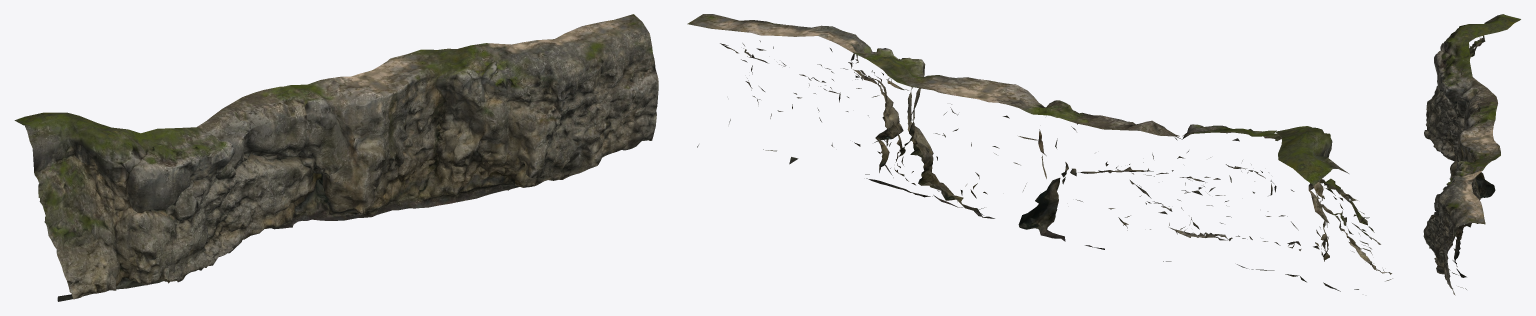
File: hill_ledge.glb
The picture shows the model from 3 angles, left to right: view 1: azimuth 30°, elevation 25°; view 2: azimuth 150°, elevation 25°; view 3: azimuth 270°, elevation 25°; orthographic projection. The views are drawn at different scales.
Visible parts, largest first — view 1: hill_ledge; view 2: hill_ledge; view 3: hill_ledge.
Boxes of the visible parts, box(x1,y1,x2,y2) form: hill_ledge: box(14, 14, 658, 301); hill_ledge: box(687, 14, 1392, 291); hill_ledge: box(1423, 14, 1520, 295).
Size of the model in its own units: 40.93 by 10.05 by 8.63.
Materials: 1 (1 with a texture image).
